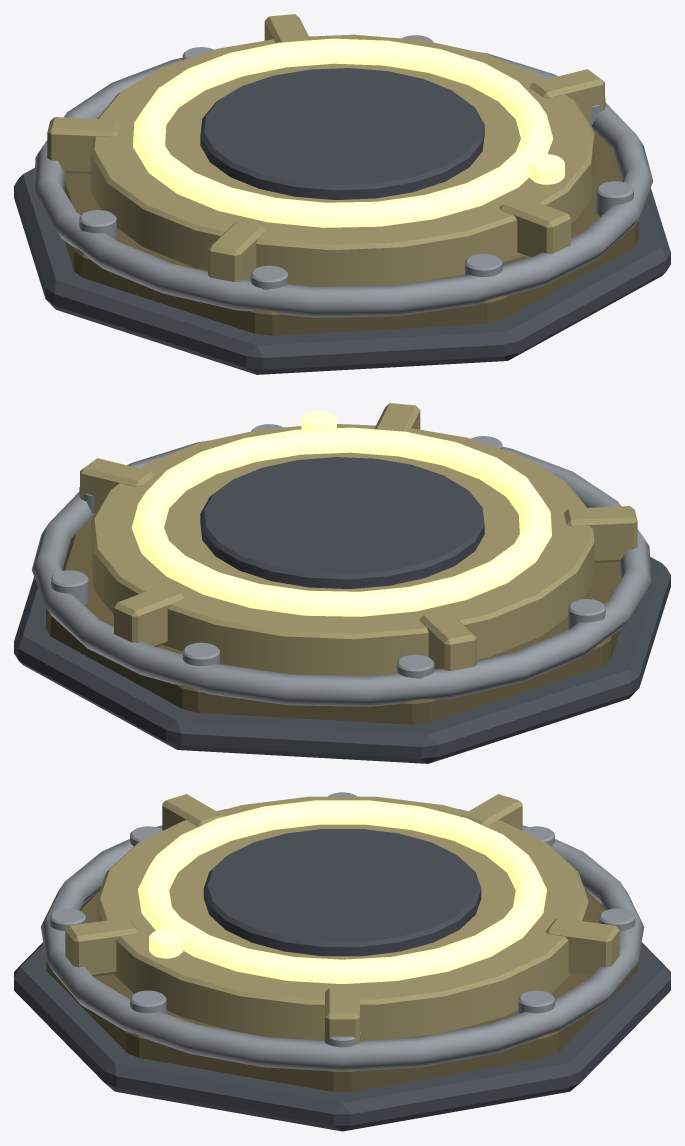
Rendered from flak_base_l1.glb.
3 views of the same model, one above another, from view 1: azimuth 30°, elevation 25°; view 2: azimuth 150°, elevation 25°; view 3: azimuth 270°, elevation 25° (orthographic). The views are drawn at different scales.
Parts seen in each view (by area): view 1: Cylinder.002, Cylinder.003, Cylinder, Torus, Torus.001, Cylinder.001, Cube.004, Cube.002, Cube.003, Cube, Cube.001, Cylinder.012 (+4 smaller); view 2: Cylinder.002, Cylinder.003, Cylinder, Torus, Torus.001, Cylinder.001, Cube.001, Cube.003, Cube.002, Cube, Cube.004, Cylinder.005 (+4 smaller); view 3: Cylinder.002, Cylinder, Cylinder.003, Torus, Torus.001, Cylinder.001, Cube.001, Cube.004, Cube, Cube.002, Cube.003, Cylinder.012 (+4 smaller).
Part boxes in pixels (bbox=[...]): Cylinder.002: bbox=[90, 34, 594, 286]; Cylinder.003: bbox=[200, 68, 484, 199]; Cylinder: bbox=[14, 168, 670, 374]; Torus: bbox=[33, 51, 652, 317]; Torus.001: bbox=[133, 38, 553, 227]; Cylinder.001: bbox=[64, 129, 638, 335]; Cube.004: bbox=[500, 196, 570, 257]; Cube.002: bbox=[47, 117, 120, 173]; Cube.003: bbox=[208, 221, 265, 281]; Cube: bbox=[530, 69, 604, 123]; Cube.001: bbox=[264, 14, 310, 43]; Cylinder.012: bbox=[529, 154, 564, 184]; Cylinder.002: bbox=[90, 424, 594, 675]; Cylinder.003: bbox=[200, 457, 484, 588]; Cylinder: bbox=[14, 557, 670, 763]; Torus: bbox=[32, 440, 651, 706]; Torus.001: bbox=[131, 427, 551, 616]; Cylinder.001: bbox=[46, 518, 620, 724]; Cube.001: bbox=[114, 585, 184, 646]; Cube.003: bbox=[564, 506, 637, 562]; Cube.002: bbox=[419, 610, 476, 670]; Cube: bbox=[80, 458, 154, 512]; Cube.004: bbox=[374, 403, 420, 432]; Cylinder.005: bbox=[51, 570, 88, 605]; Cylinder.002: bbox=[96, 796, 588, 1040]; Cylinder: bbox=[14, 900, 670, 1131]; Cylinder.003: bbox=[203, 829, 481, 956]; Torus: bbox=[41, 809, 643, 1070]; Torus.001: bbox=[137, 800, 547, 983]; Cylinder.001: bbox=[46, 889, 638, 1091]; Cube.001: bbox=[545, 918, 619, 976]; Cube.004: bbox=[65, 918, 139, 976]; Cube: bbox=[325, 988, 359, 1044]; Cube.002: bbox=[460, 794, 522, 830]; Cube.003: bbox=[162, 794, 224, 830]; Cylinder.012: bbox=[149, 929, 183, 958].
Size of the model in its own units: 2.08 by 0.4 by 2.08.
